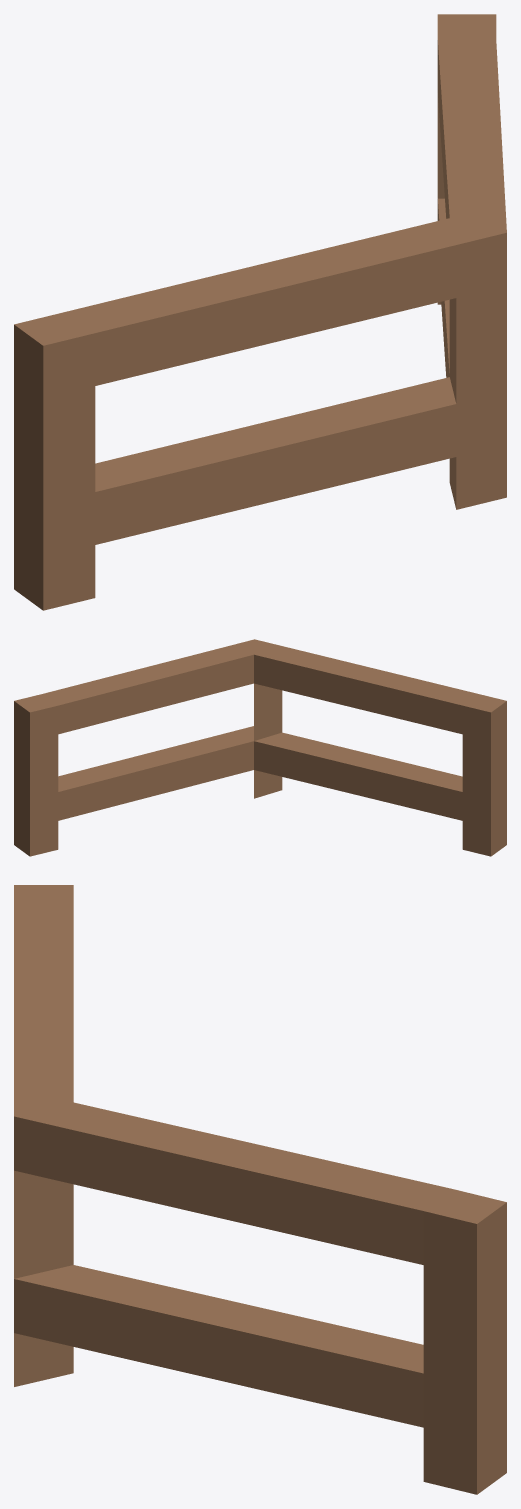
File: fence6.fbx
The picture shows the model from 3 angles, top to bottom: view 1: azimuth 30°, elevation 25°; view 2: azimuth 150°, elevation 25°; view 3: azimuth 270°, elevation 25°; orthographic projection. The views are drawn at different scales.
Parts seen in each view (by area): view 1: Cylinder; view 2: Cylinder; view 3: Cylinder.
Boxes of the visible parts, x1,y1,x2,y2 form: Cylinder: [14, 14, 506, 610]; Cylinder: [14, 639, 506, 856]; Cylinder: [14, 885, 506, 1494].
Size of the model in its own units: 1.34 by 0.5 by 0.825.
